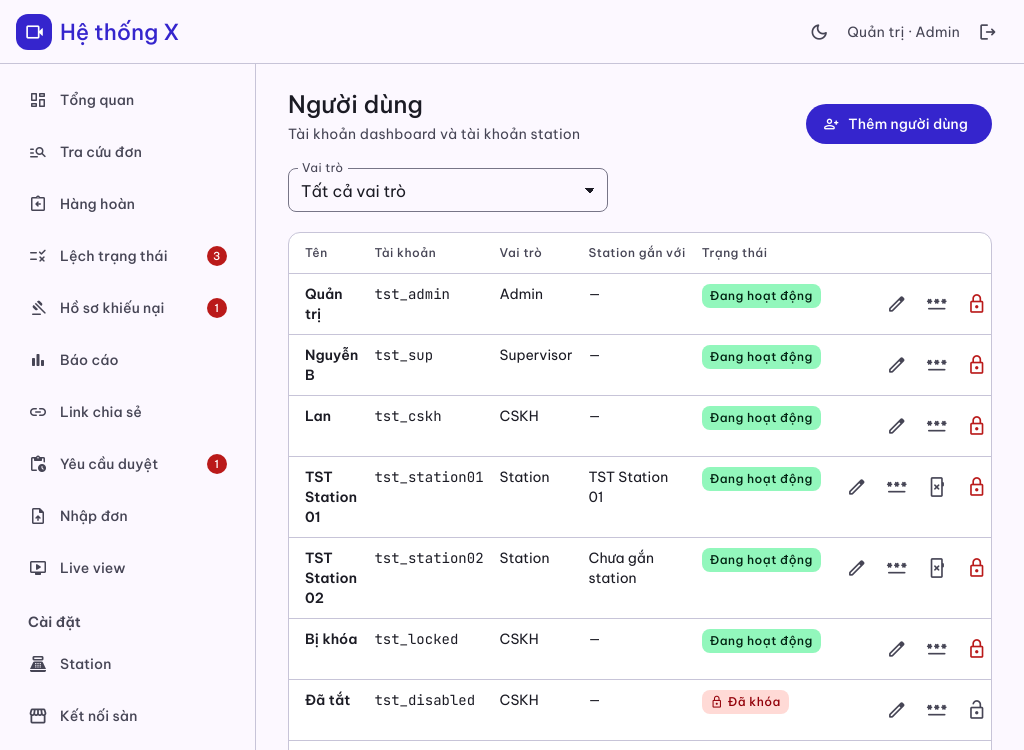
Test: TC-10.07 (đổi vai): hạ vai Admin cuối trong dialog Sửa → Alert trong dialog
Click the button named "Sửa tst_admin" at (897,304), box [877,284,917,324]
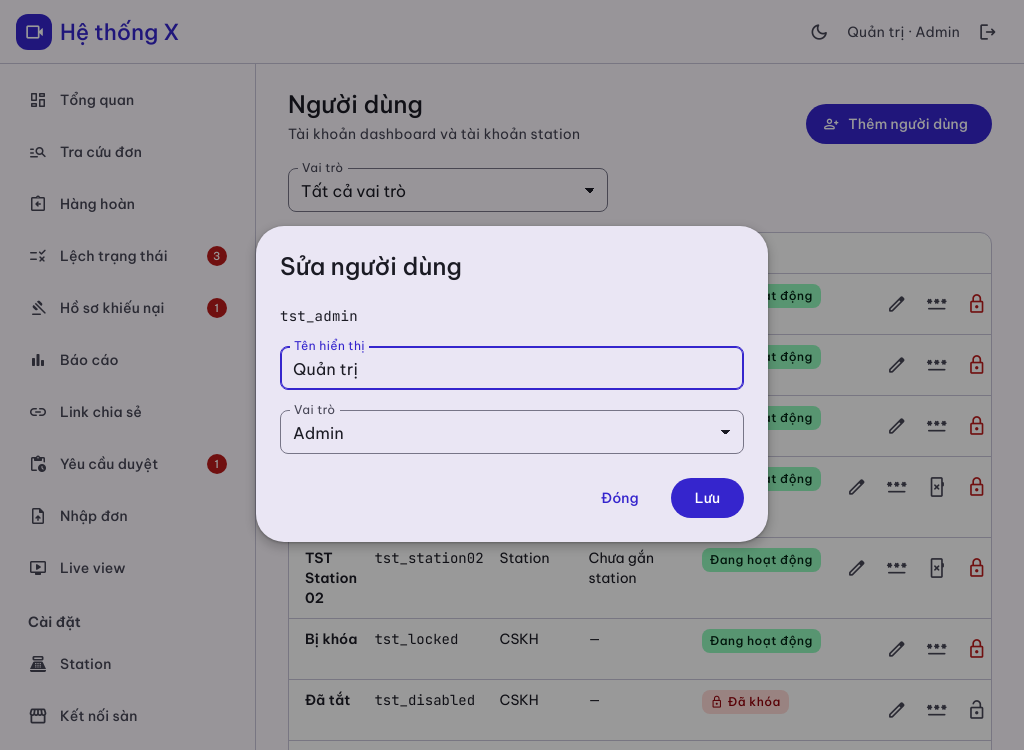
Select "CSKH" in the dropdown labelled "Vai trò" at (512,432), box [280,410,744,454]
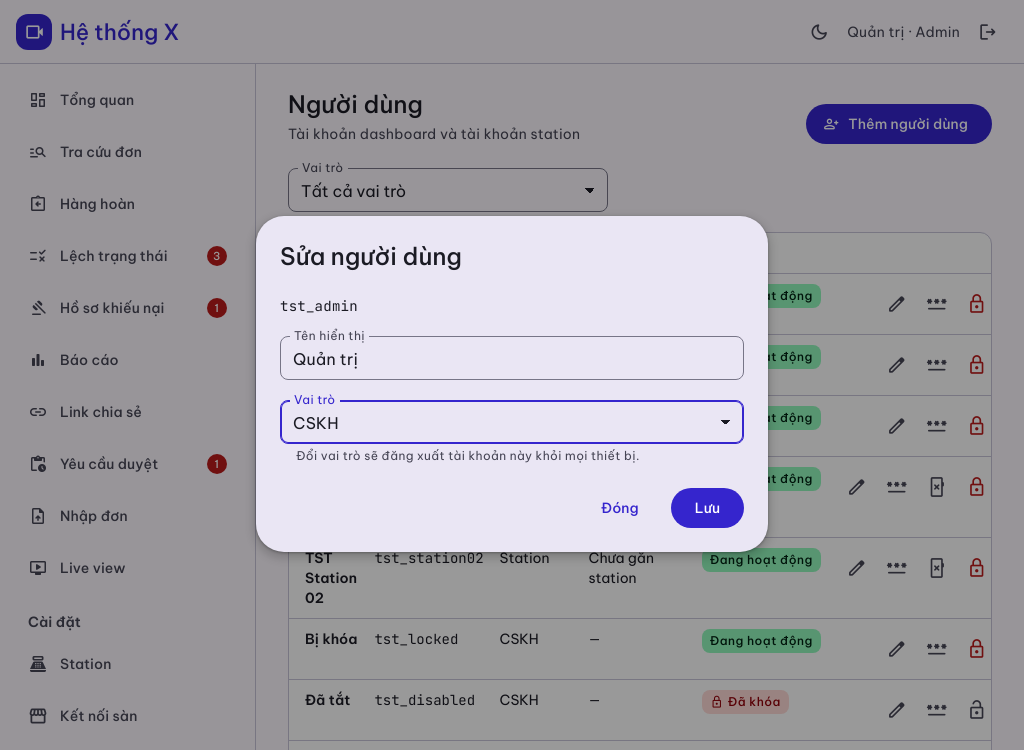
Check: the text "Đổi vai trò sẽ đăng xuất tài khoản này khỏi mọi thiết bị." is shown, box [296,448,640,463]
Click the button "Lưu" at (707,508), box [671,488,744,528]
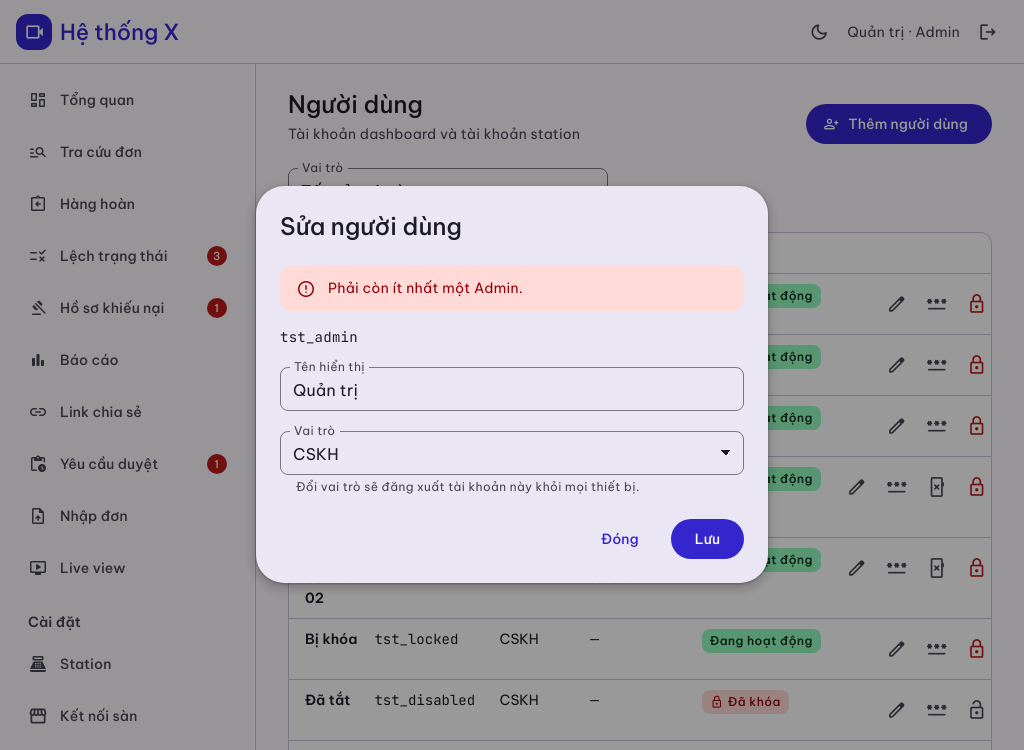
Check: the text "Phải còn ít nhất một Admin." is shown, box [328,278,523,296]
